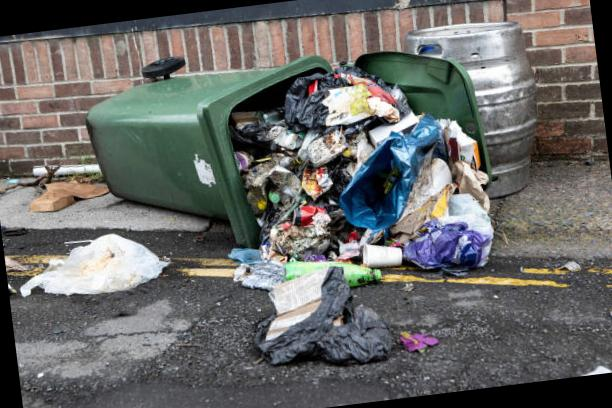trash: (208, 57, 507, 298), (232, 254, 397, 382), (32, 216, 165, 307), (18, 154, 106, 221), (548, 252, 588, 280), (573, 358, 612, 376), (602, 281, 612, 331)
trash_can_overflow: (48, 0, 515, 374)
